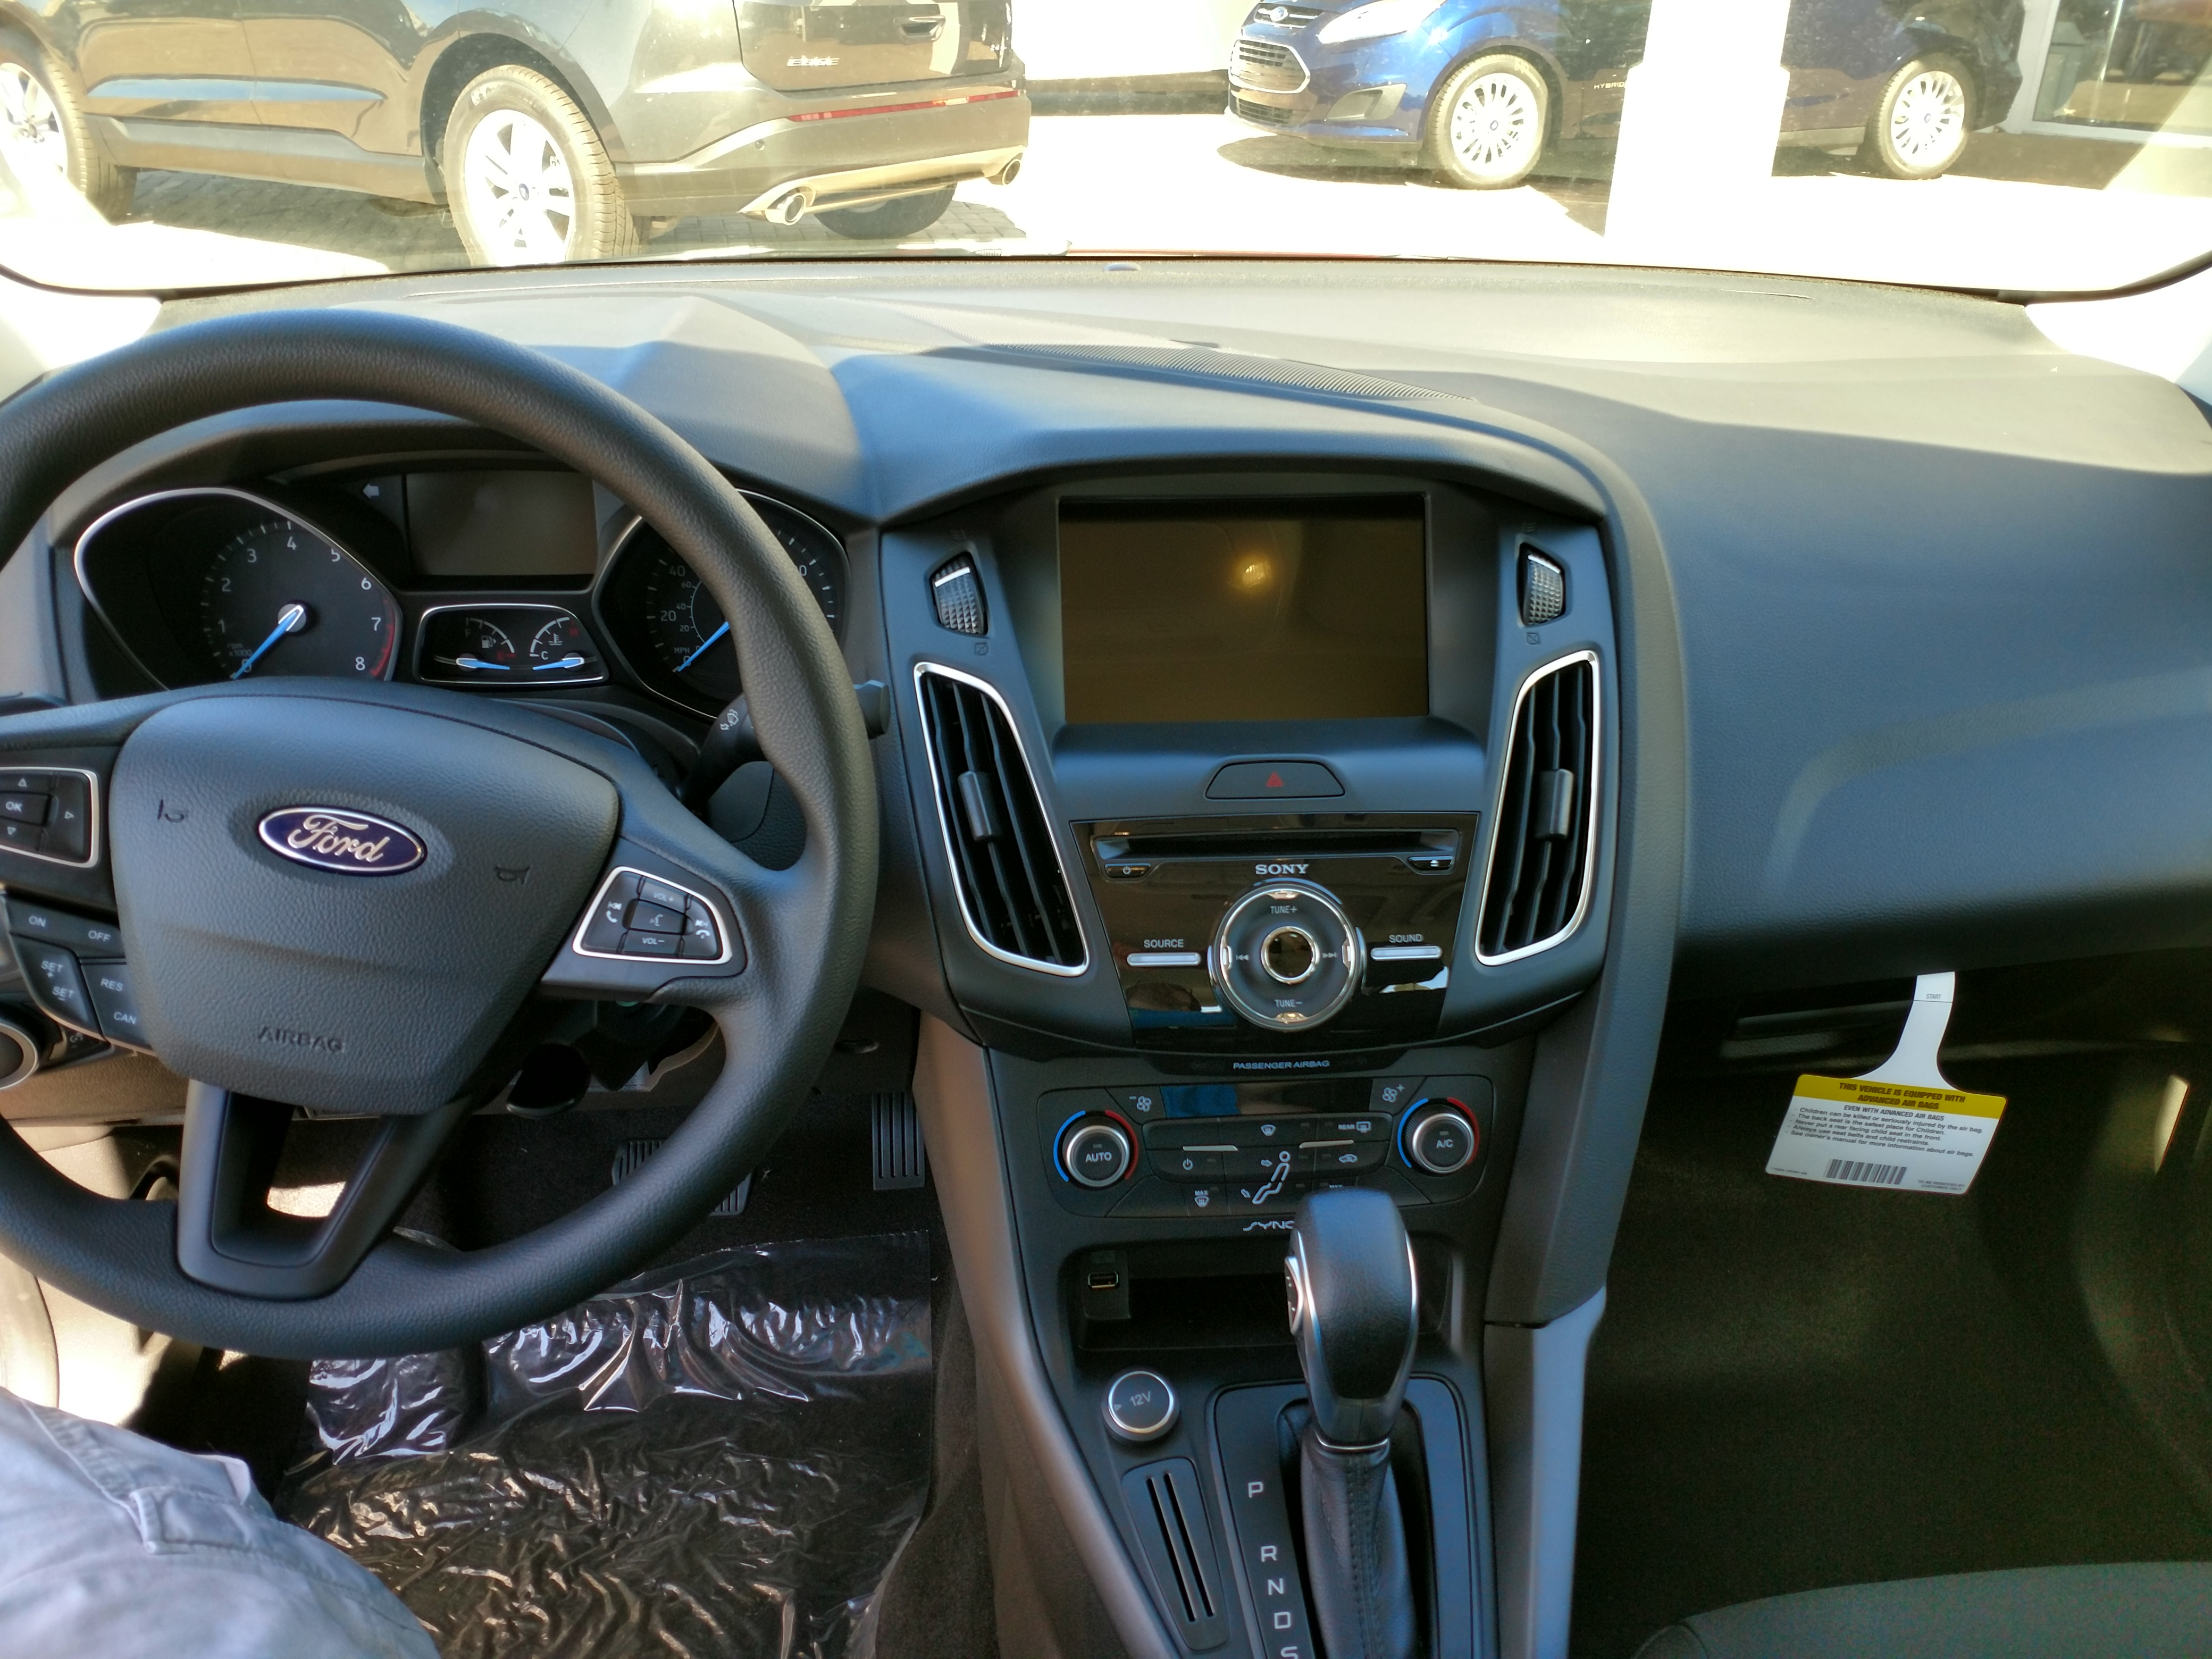Ford: (251, 789, 437, 887)
